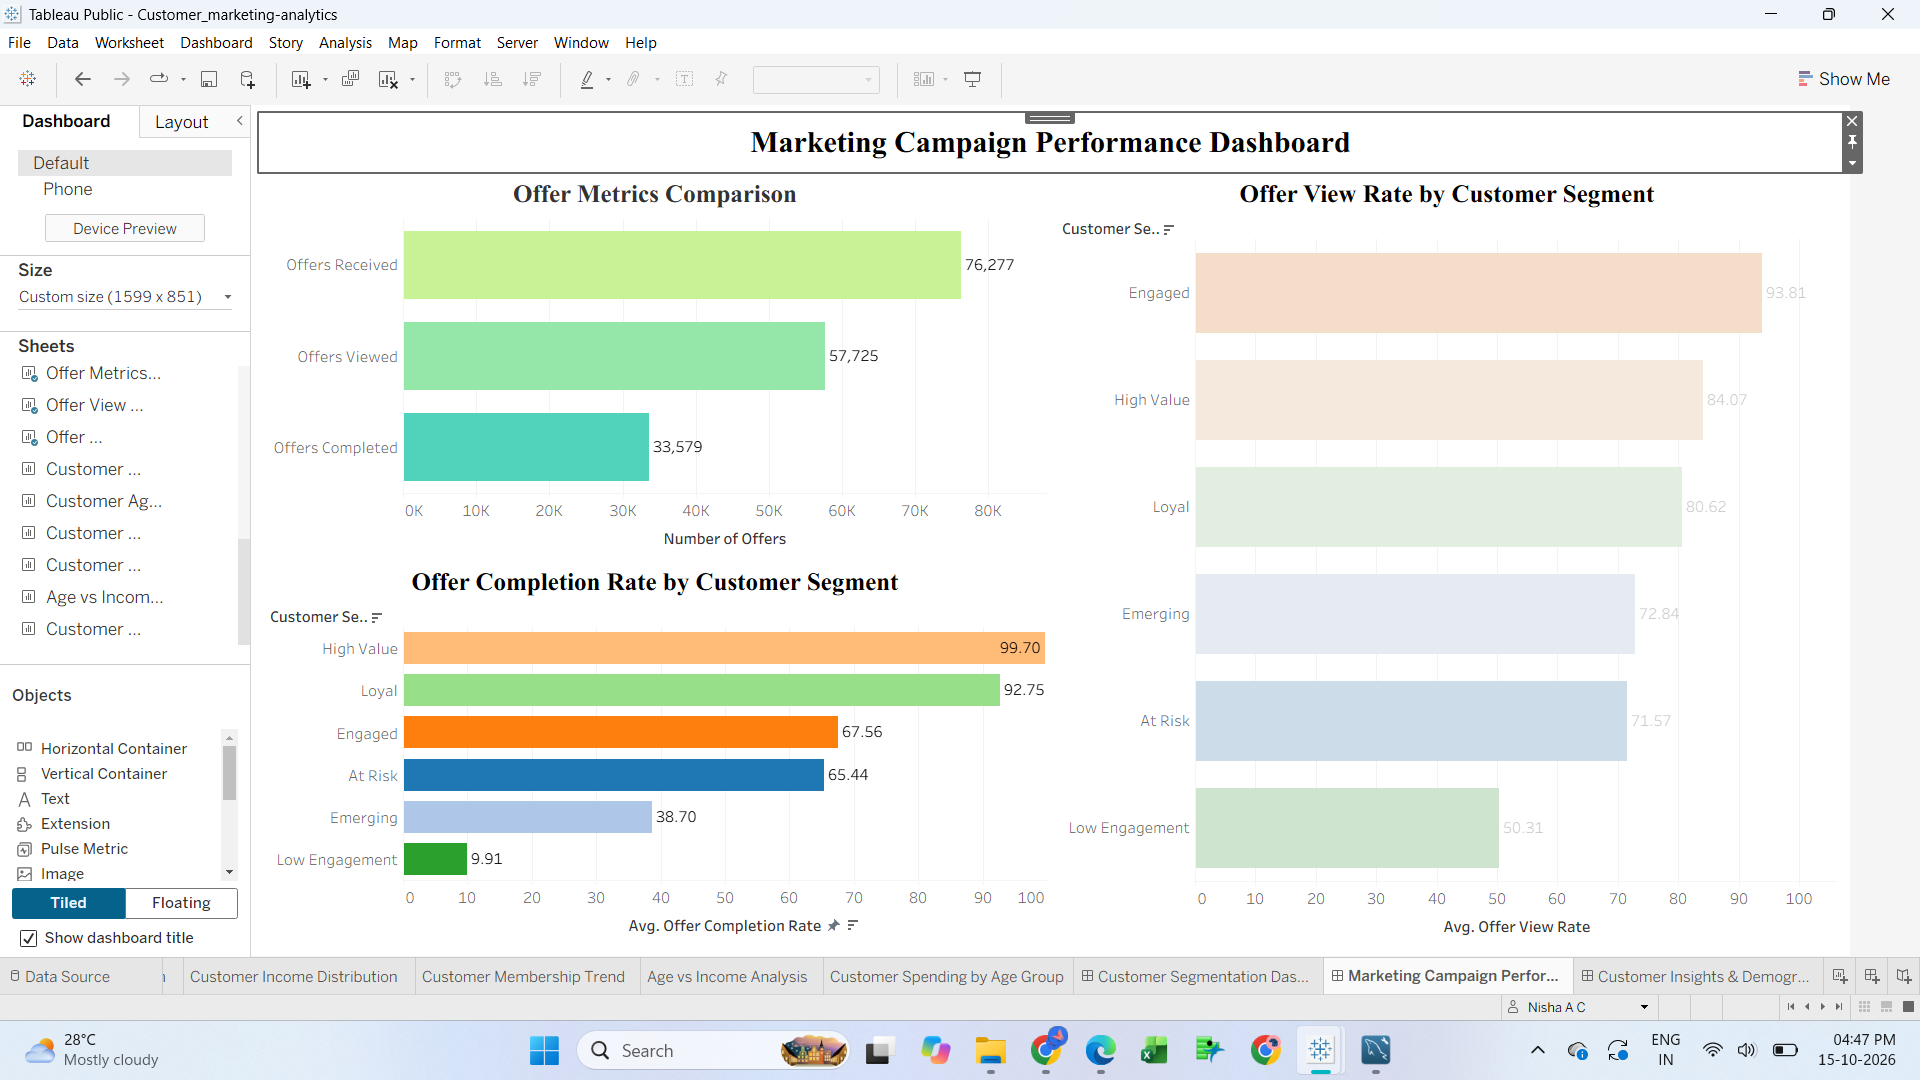

This screenshot's page, from the dashboard's own definition file:
{"tool":"tableau","page":{"name":"Marketing Campaign Performance Dashboard","canvas":[1599,851],"ordinal":3},"visuals":[{"type":"title","box":[8,8,1583,42]},{"type":"worksheet","title":"Offer Metrics Comparison","mark":"Automatic","box":[8,50,791.5,396.5]},{"type":"worksheet","title":"Offer View Rate by Segment","mark":"Automatic","rows":["customer_segment"],"cols":["offer_view_rate"],"box":[799.5,50,791.5,793]},{"type":"worksheet","title":"Offer Completion Rate by Customer Segment","mark":"Automatic","rows":["customer_segment"],"cols":["offer_completion_rate"],"box":[8,446.5,791.5,396.5]}]}

Visuals, with their boxes on the page's 1599x851 design canvas (x1, y1, x2, y2). These are canvas units, not pixel positions in the 1920x1080 screenshot, which may show the page scaled, cropped or inside an application window:
title: 8 8 1591 50
"Offer Metrics Comparison" worksheet: 8 50 800 446
"Offer View Rate by Segment" worksheet: 800 50 1591 843
"Offer Completion Rate by Customer Segment" worksheet: 8 446 800 843
